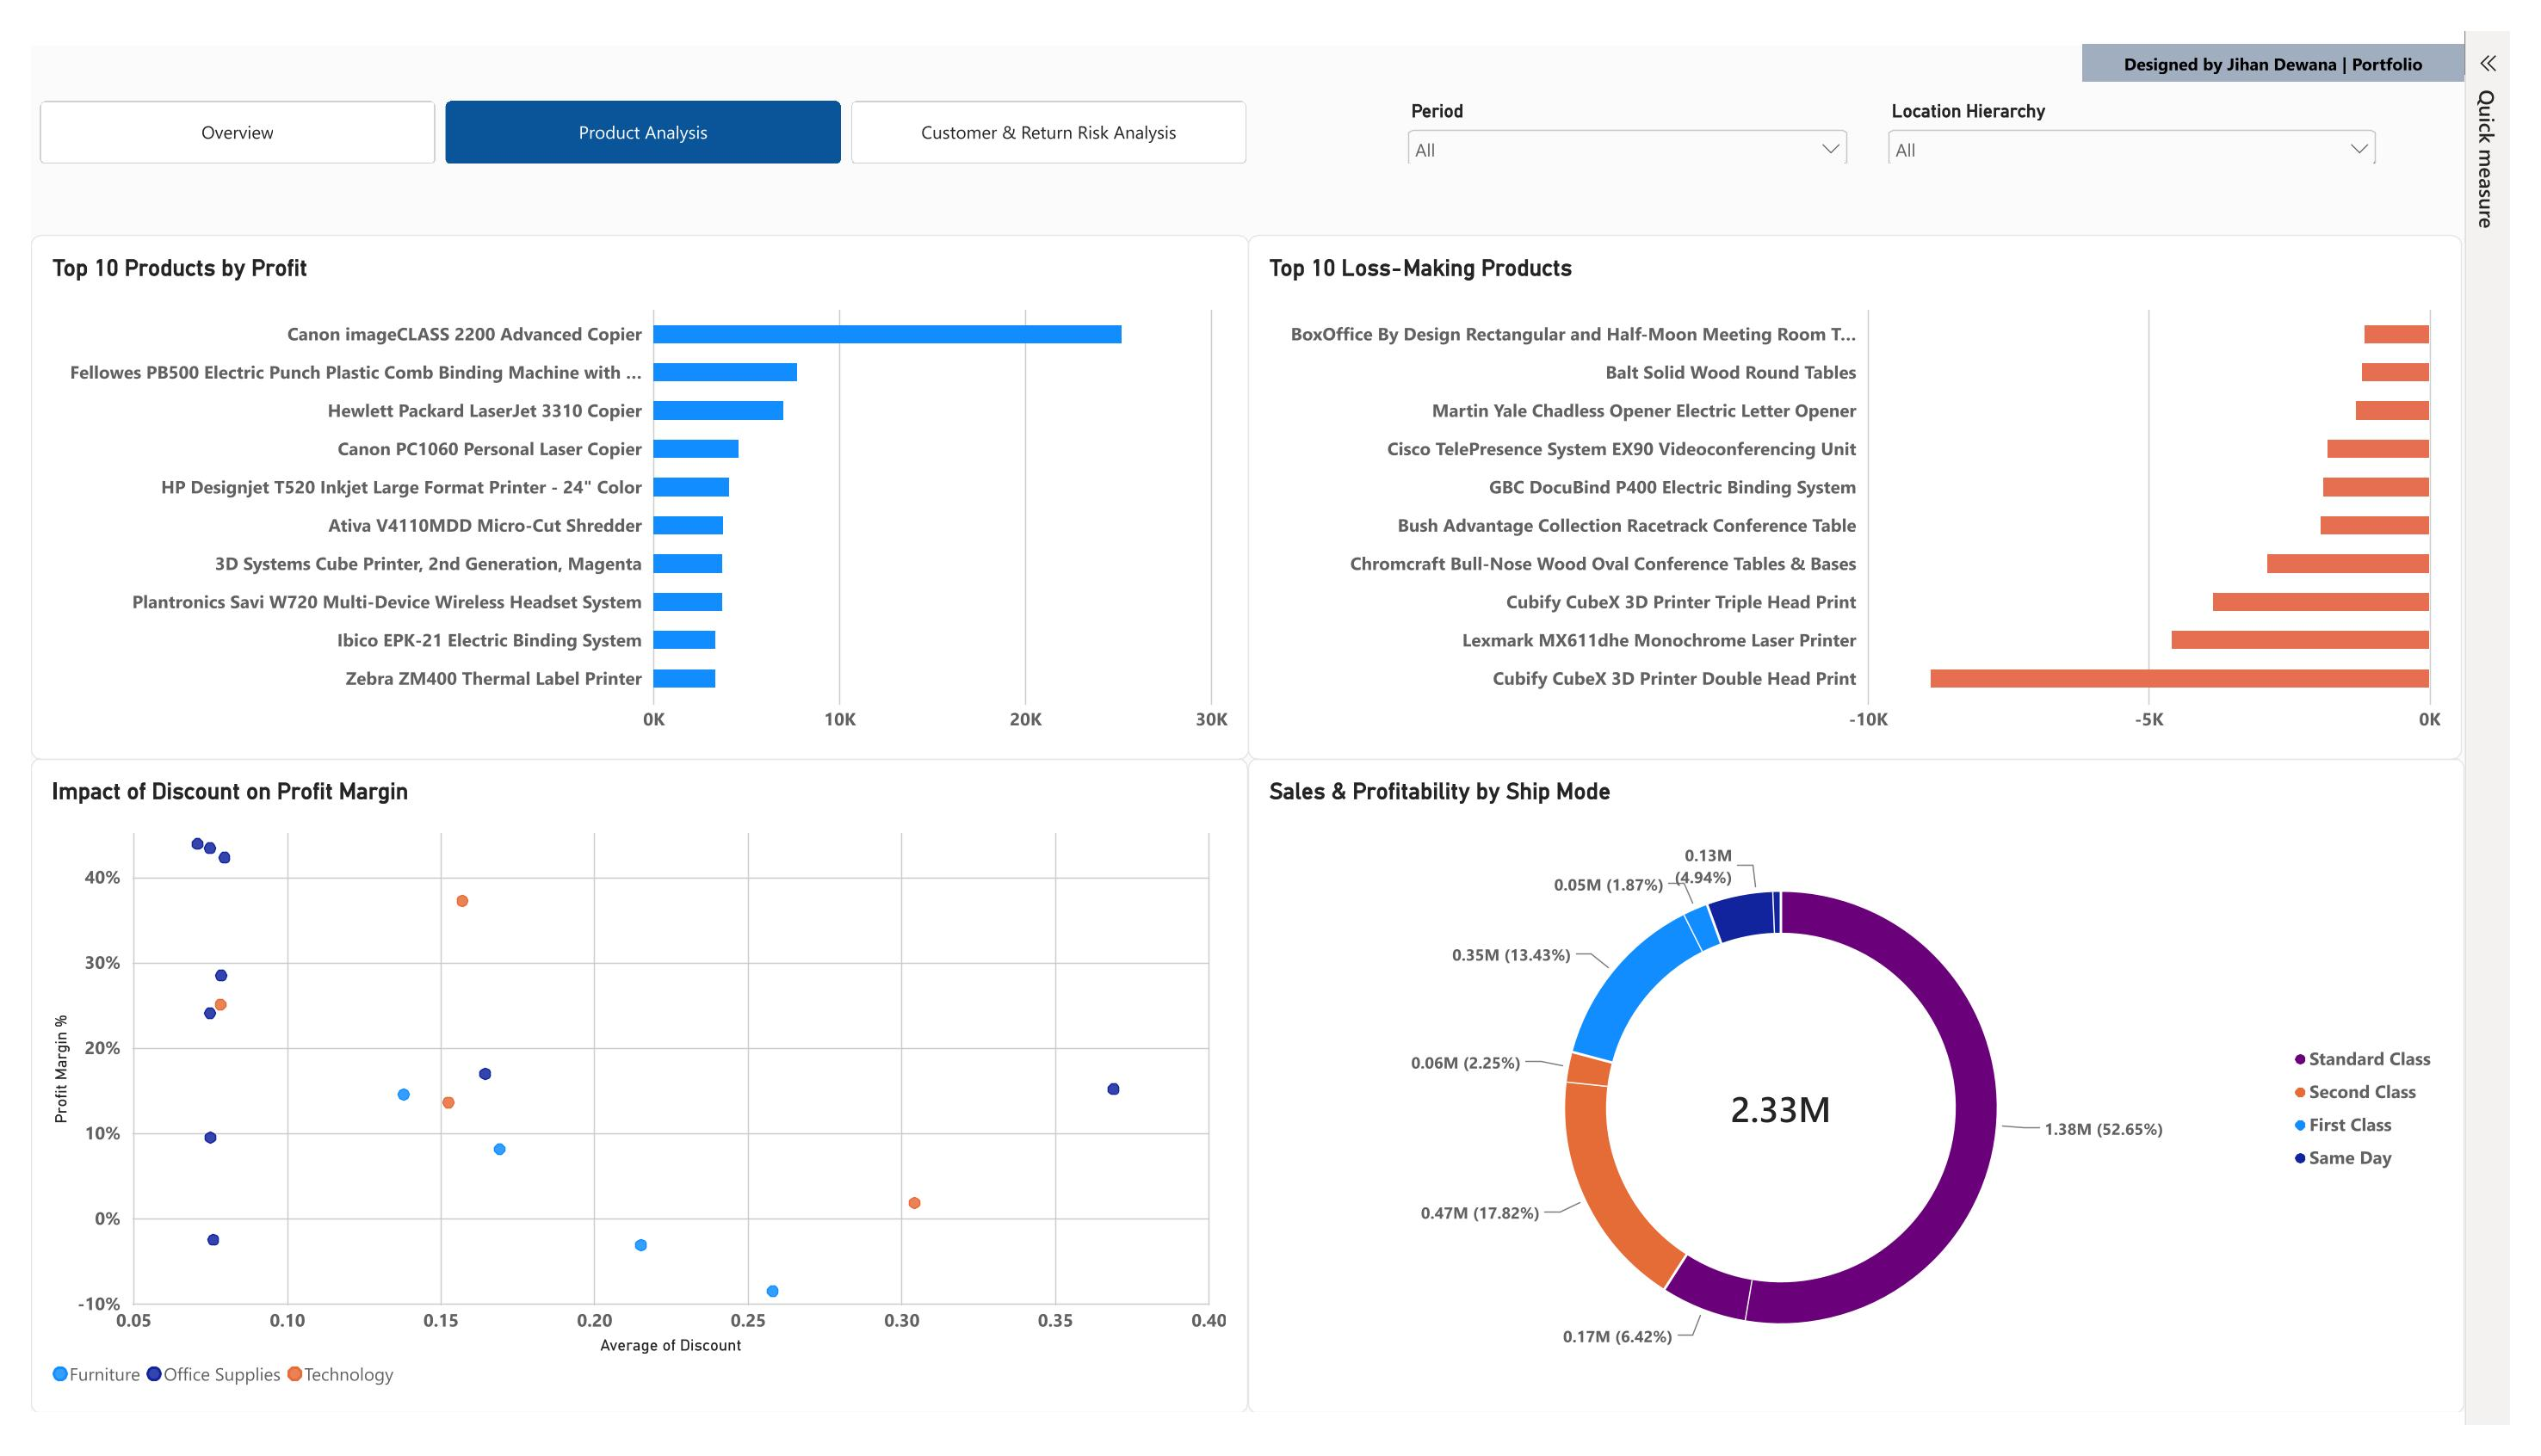

The page's visual inventory and layout, read from the dashboard file:
{"tool":"powerbi","page":{"name":"Product Analysis","canvas":[1920,1080],"ordinal":1},"visuals":[{"type":"slicer","fields":{"Values":["Orders.Region","Orders.Country/Region","Orders.State/Province","Orders.City"]},"box":[1459.8,44.5,395.2,50],"z":0},{"type":"slicer","fields":{"Values":["Orders.Order Date.Variation.Date Hierarchy.Year"]},"box":[1081.2,44.5,356.6,50],"z":1000},{"type":"pageNavigator","box":[7.4,44.5,953.9,50],"z":2000},{"type":"clusteredBarChart","title":"Top 10 Products by Profit","fields":{"Category":["Orders.Product Name"],"Y":["Sum(Orders.Profit)"]},"box":[0,150.9,961,413.9],"z":3000},{"type":"clusteredBarChart","title":"Top 10 Loss-Making Products","fields":{"Category":["Orders.Product Name"],"Y":["Sum(Orders.Profit)"]},"box":[960,150.9,958.1,413.9],"z":4000},{"type":"scatterChart","title":"Impact of Discount on Profit Margin","fields":{"Category":["Orders.Sub-Category"],"Series":["Orders.Category"],"X":["Avg(Orders.Discount)"],"Y":["Orders.Profit Margin %"]},"box":[0,564.1,960,517.1],"z":5000},{"type":"donutChart","title":"Sales & Profitability by Ship Mode","fields":{"Category":["Orders.Ship Mode"],"Y":["Sum(Orders.Sales)","Sum(Orders.Profit)"]},"box":[960,564.1,960,517.1],"z":6000},{"type":"shape","box":[1618.1,0,301.9,29.7],"z":7000}]}

Visuals, with their boxes on the page's 1920x1080 design canvas (x1, y1, x2, y2). These are canvas units, not pixel positions in the 2541x1456 screenshot, which may show the page scaled, cropped or inside an application window:
slicer - Orders.Region x Orders.Country/Region: pyautogui.locateOnScreen(1460, 44, 1855, 94)
slicer - Orders.Order Date.Variation.Date Hierarchy.Year: pyautogui.locateOnScreen(1081, 44, 1438, 94)
pageNavigator: pyautogui.locateOnScreen(7, 44, 961, 94)
"Top 10 Products by Profit" clusteredBarChart: pyautogui.locateOnScreen(0, 151, 961, 565)
"Top 10 Loss-Making Products" clusteredBarChart: pyautogui.locateOnScreen(960, 151, 1918, 565)
"Impact of Discount on Profit Margin" scatterChart: pyautogui.locateOnScreen(0, 564, 960, 1081)
"Sales & Profitability by Ship Mode" donutChart: pyautogui.locateOnScreen(960, 564, 1920, 1081)
shape: pyautogui.locateOnScreen(1618, 0, 1920, 30)
